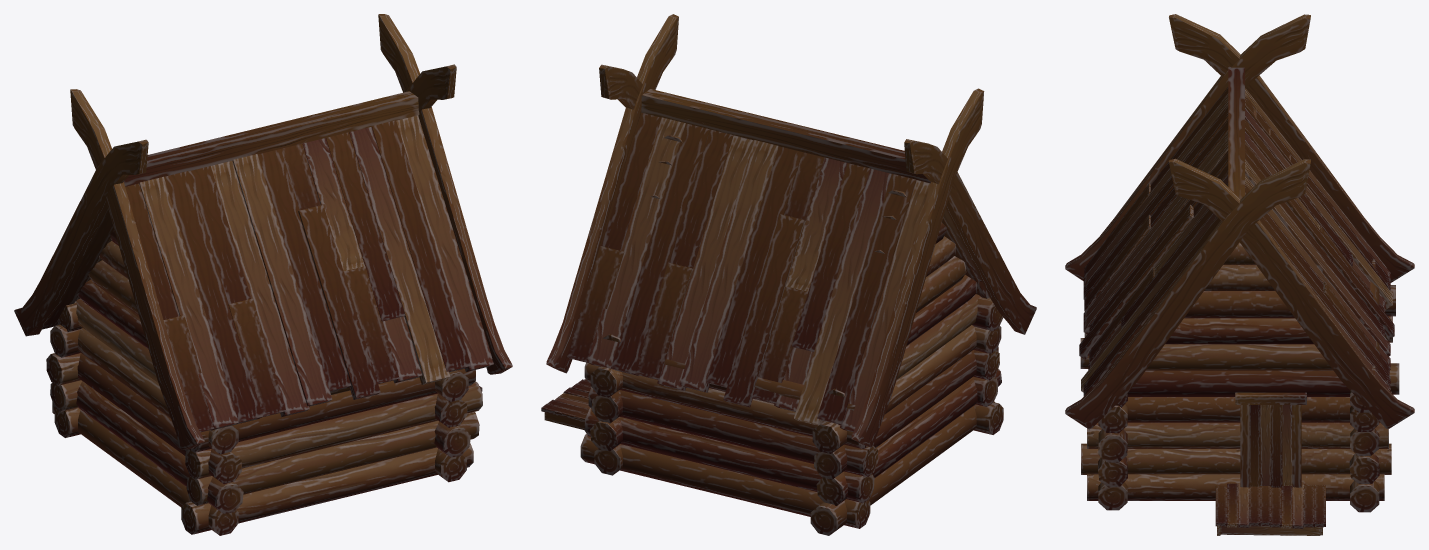
File: Stylized_house01.glb
3 views of the same model, side by side, from view 1: azimuth 30°, elevation 25°; view 2: azimuth 150°, elevation 25°; view 3: azimuth 270°, elevation 25° (orthographic). The views are drawn at different scales.
Parts seen in each view (by area): view 1: Stylized_house01; view 2: Stylized_house01; view 3: Stylized_house01.
Boxes of the visible parts, <box> form: Stylized_house01: <box>14,14,512,535</box>; Stylized_house01: <box>541,14,1036,535</box>; Stylized_house01: <box>1065,14,1414,535</box>.
Size of the model in its own units: 6.5 by 6.27 by 5.55.
Materials: 1 (1 with a texture image).
